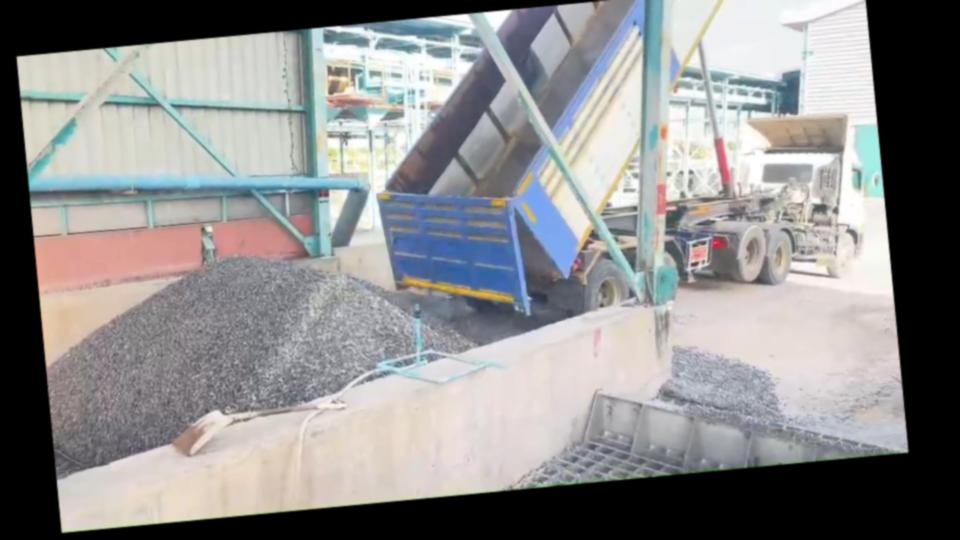gravel: (46, 257, 414, 466), (660, 346, 784, 426), (425, 319, 475, 352)
